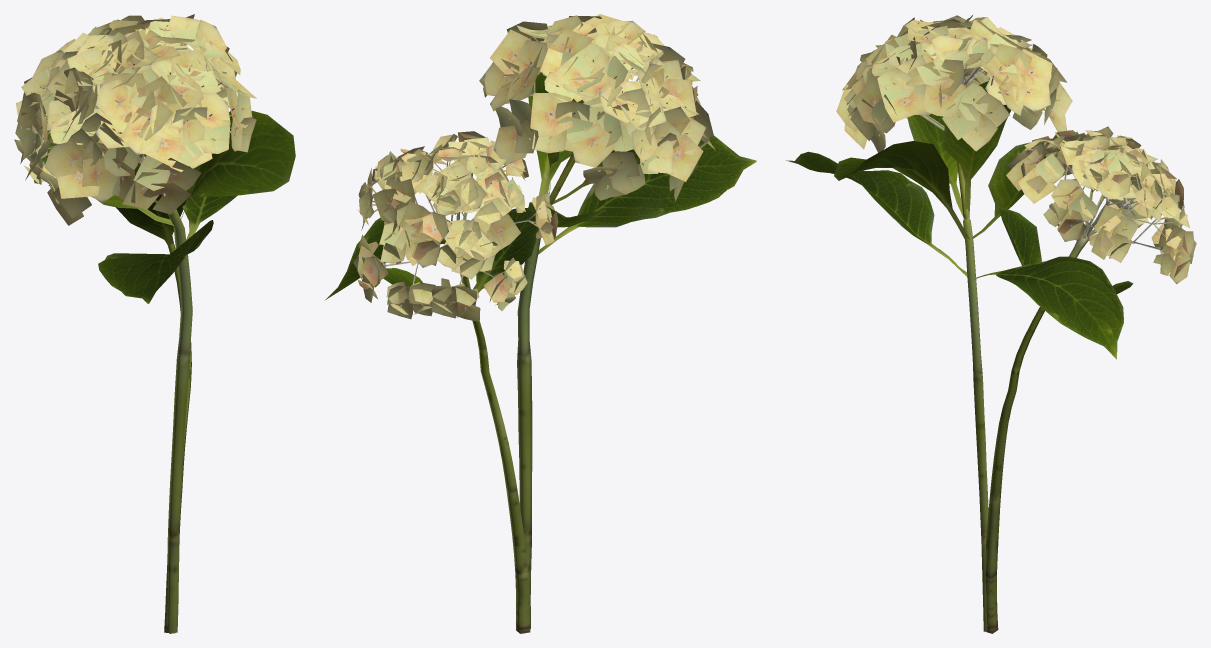
Rendered from Hydrangea_bush_short_yellowgreen.glb.
3 renders of one model, left to right at view 1: azimuth 30°, elevation 25°; view 2: azimuth 150°, elevation 25°; view 3: azimuth 270°, elevation 25°, orthographic. The views are drawn at different scales.
Visible parts, largest first — view 1: BUSHEKK; view 2: BUSHEKK; view 3: BUSHEKK.
Boxes of the visible parts, x1,y1,x2,y2 form: BUSHEKK: (14,14,295,633); BUSHEKK: (325,14,756,633); BUSHEKK: (786,15,1196,633).
Size of the model in its own units: 1.48 by 2.94 by 1.87.
Materials: 1 (1 with a texture image).
